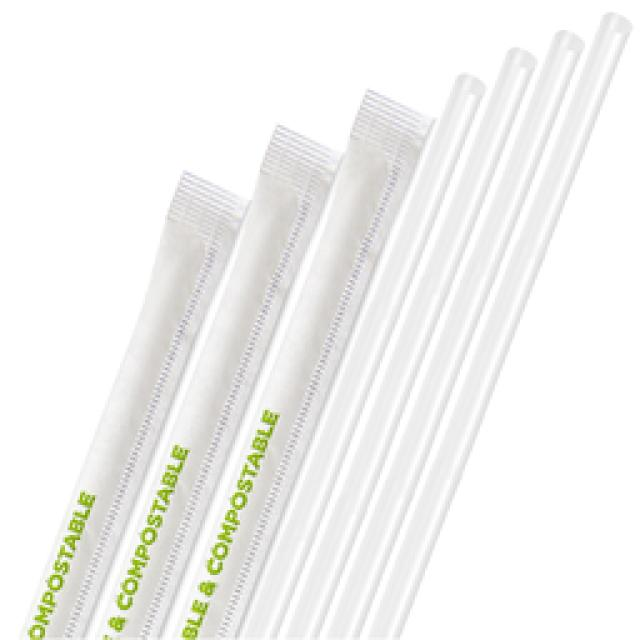plastic: (2, 10, 632, 638)
